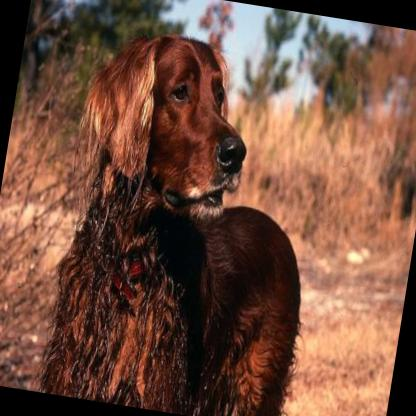Irish_setter: (37, 18, 342, 416)
